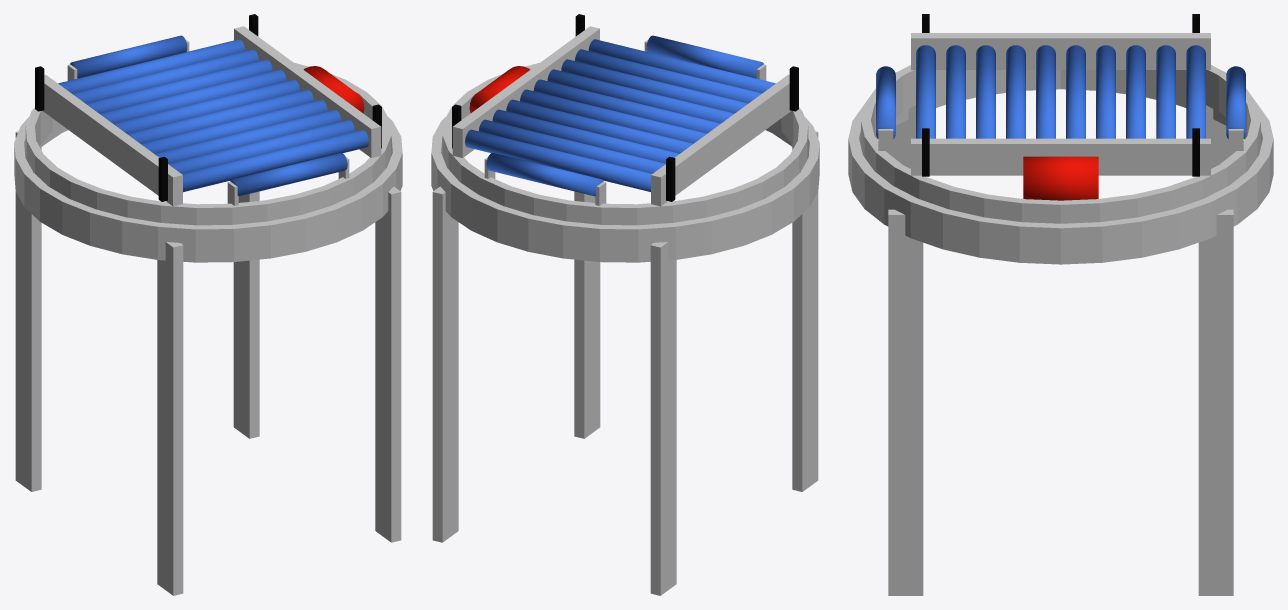
Rendered from Turnplate.fbx.
3 renders of one model, left to right at view 1: azimuth 30°, elevation 25°; view 2: azimuth 150°, elevation 25°; view 3: azimuth 270°, elevation 25°, orthographic. The views are drawn at different scales.
Visible parts, largest first — view 1: Cylinder.013, Cylinder.016, Cube, Cube.001, Cube.005, Cube.002, Cube.004, Cylinder.003, Cube.003, Cylinder.009, Cylinder.006, Cylinder.010 (+9 smaller); view 2: Cylinder.013, Cylinder.016, Cube.005, Cube.004, Cube, Cube.002, Cube.001, Cylinder.012, Cube.003, Cylinder.003, Cylinder.005, Cylinder.006 (+9 smaller); view 3: Cylinder.013, Cylinder.016, Cube.001, Cube.004, Cube.003, Cube.002, Motor, Cylinder.004, Cylinder.005, Cylinder.006, Cylinder.007, Cylinder.008 (+9 smaller).
Part boxes in pixels (x1,y1,x2,y2): Cylinder.013: [14, 117, 402, 262]; Cylinder.016: [25, 62, 391, 225]; Cube: [157, 242, 183, 595]; Cube.001: [375, 186, 401, 542]; Cube.005: [15, 131, 41, 491]; Cube.002: [42, 74, 182, 206]; Cube.004: [233, 191, 259, 438]; Cylinder.003: [182, 129, 368, 192]; Cube.003: [234, 26, 381, 157]; Cylinder.009: [99, 69, 286, 123]; Cylinder.006: [140, 99, 327, 153]; Cylinder.010: [85, 59, 272, 113]; Cylinder.013: [431, 117, 819, 262]; Cylinder.016: [442, 62, 808, 225]; Cube.005: [650, 242, 676, 595]; Cube.004: [432, 186, 458, 542]; Cube: [792, 131, 818, 491]; Cube.002: [651, 74, 791, 206]; Cube.001: [574, 191, 600, 438]; Cylinder.012: [465, 129, 652, 191]; Cube.003: [452, 26, 599, 157]; Cylinder.003: [588, 39, 775, 93]; Cylinder.005: [561, 59, 748, 113]; Cylinder.006: [547, 69, 734, 123]; Cylinder.013: [848, 76, 1273, 264]; Cylinder.016: [861, 65, 1260, 223]; Cube.001: [888, 209, 923, 595]; Cube.004: [1198, 209, 1233, 595]; Cube.003: [911, 138, 1210, 175]; Cube.002: [911, 33, 1210, 69]; Motor: [1023, 156, 1098, 200]; Cylinder.004: [946, 45, 965, 138]; Cylinder.005: [976, 45, 995, 138]; Cylinder.006: [1006, 45, 1025, 138]; Cylinder.007: [1036, 45, 1055, 138]; Cylinder.008: [1066, 45, 1085, 138].
Size of the model in its own units: 85 by 102 by 85.
